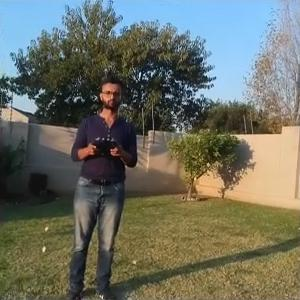follow: (55, 71, 139, 298)
